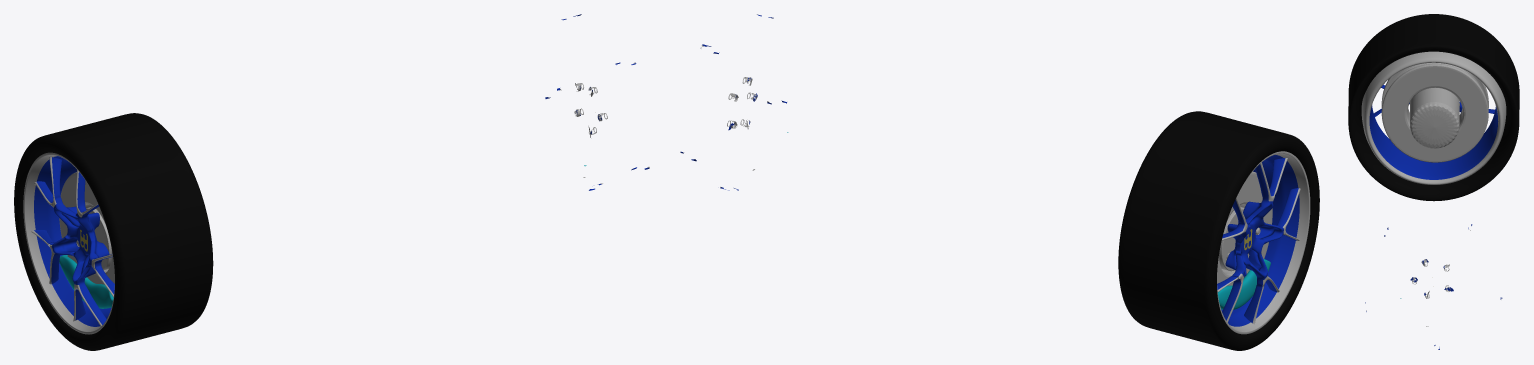
File: Llanta_TD.obj
The picture shows the model from 3 angles, left to right: view 1: azimuth 30°, elevation 25°; view 2: azimuth 150°, elevation 25°; view 3: azimuth 270°, elevation 25°; orthographic projection. The views are drawn at different scales.
Parts seen in each view (by area): view 1: Cube.039; view 2: Cube.039; view 3: Cube.039.
Boxes of the visible parts, <box> form: Cube.039: <box>14,14,649,350</box>; Cube.039: <box>680,14,1319,350</box>; Cube.039: <box>1348,14,1519,349</box>.
Size of the model in its own units: 6 by 2.14 by 2.12.
